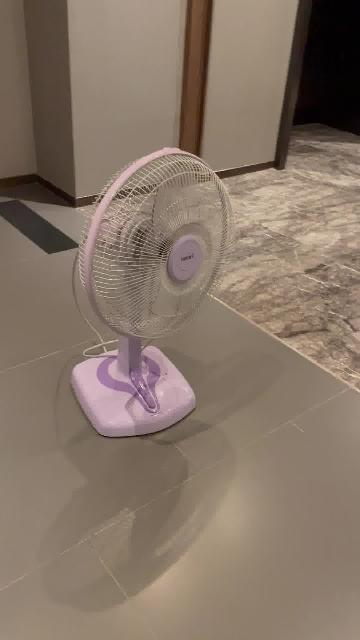Fan: (70, 148, 236, 439)
